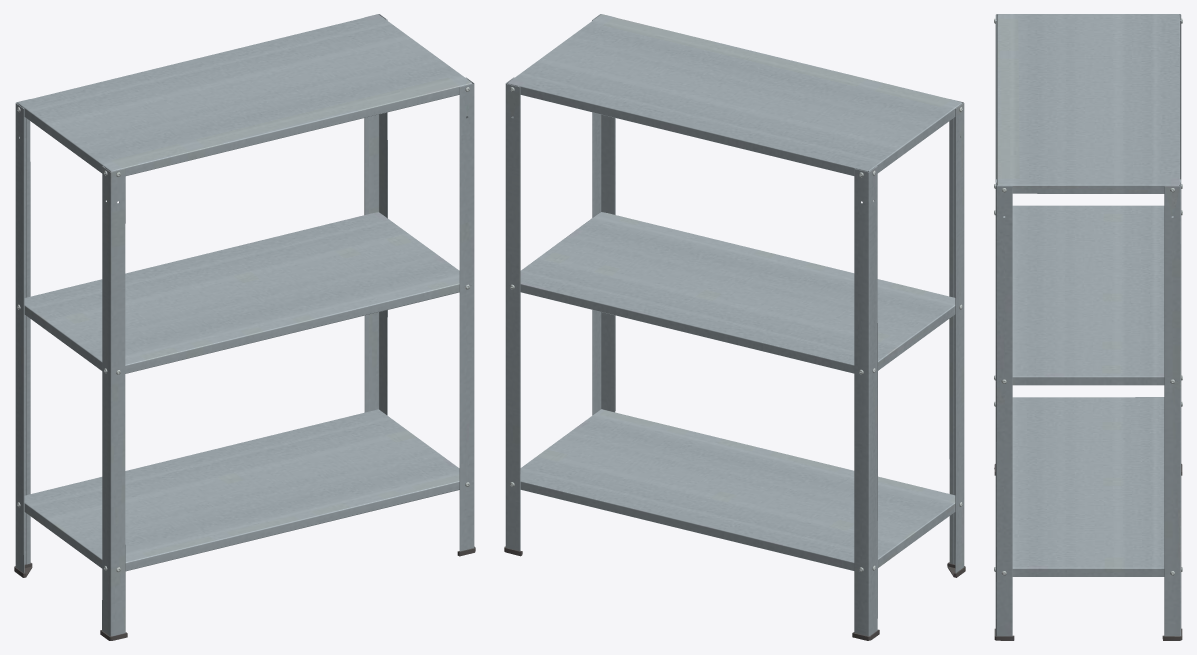
The model's file is hyllis.glb.
The picture shows the model from 3 angles, left to right: view 1: azimuth 30°, elevation 25°; view 2: azimuth 150°, elevation 25°; view 3: azimuth 270°, elevation 25°; orthographic projection. The views are drawn at different scales.
Visible parts, largest first — view 1: model; view 2: model; view 3: model.
Part boxes in pixels (x1,y1,x2,y2): model: (14, 14, 475, 640); model: (504, 14, 965, 640); model: (994, 14, 1182, 640).
Bounding box in the file's own units: 0.6064 × 0.74 × 0.2785.
1 material, 1 textured.
